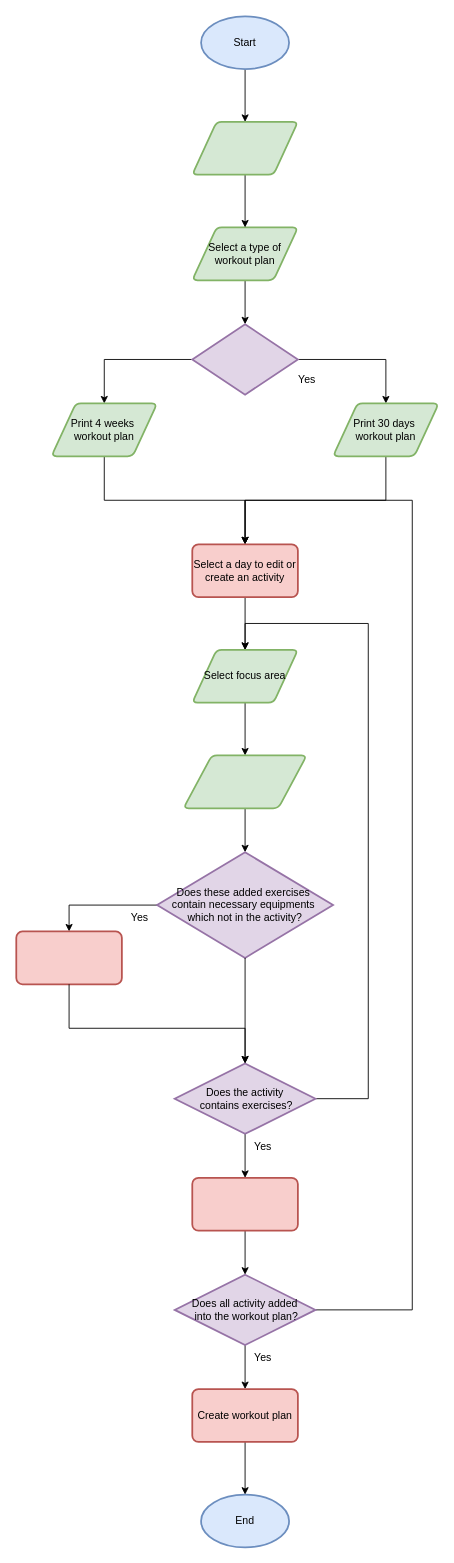
Image size: 454x1563. Some labels were removed from this diagram. Here are the shapes that lost their labels. From the top down, the centre of each, then its label:
At point 244,148: "Define workout plan name".
At point 244,359: "Is 30 days plan?".
At point 244,781: "Add / Delete / Replace exercises".
At point 68,957: "Add equipment requirement".
At point 244,1204: "Save and add the activity to the selected day".
